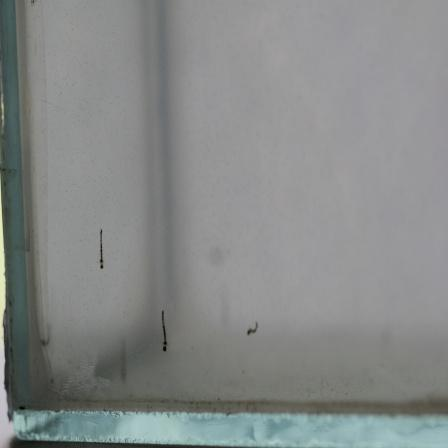Jentik-Nyamuk: (94, 226, 110, 272), (158, 307, 170, 357), (243, 318, 262, 340)
